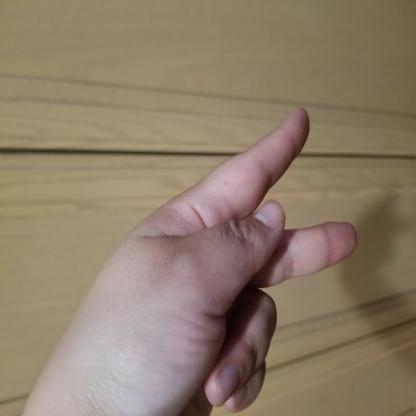P: (63, 102, 361, 416)
